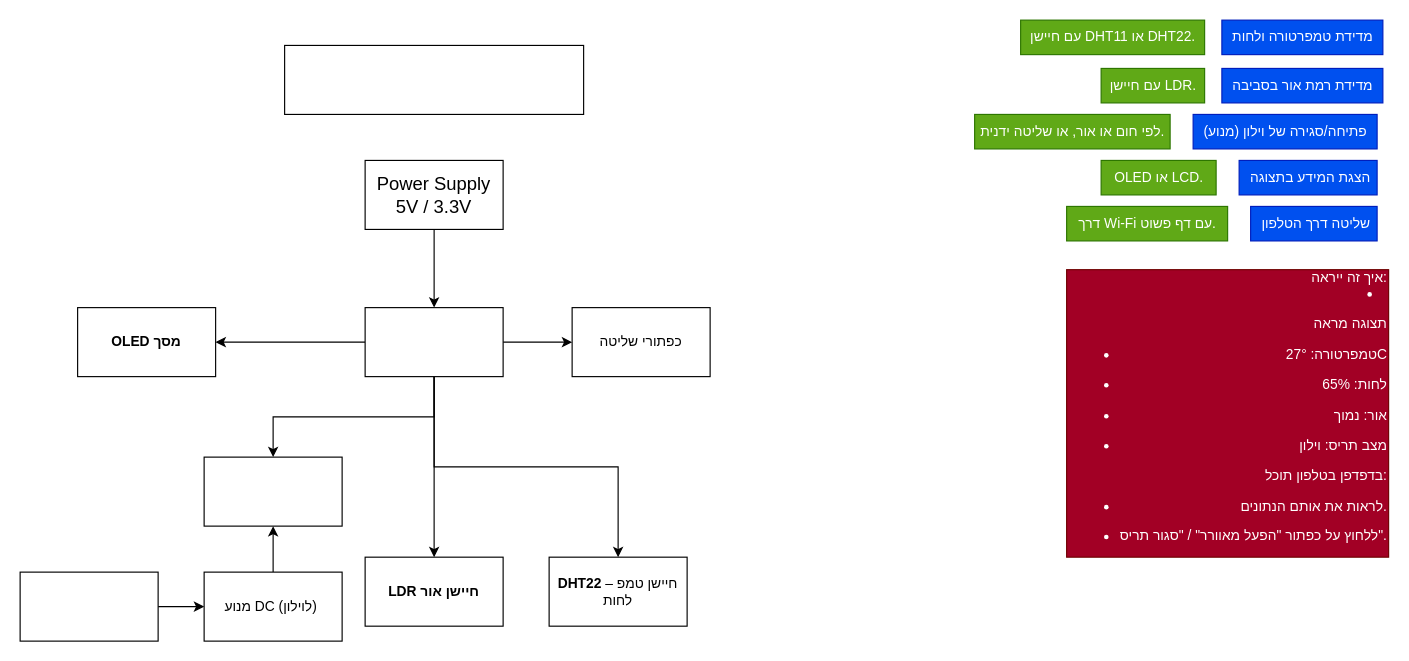
This 1409x661 diagram has some shape labels left out. The box of each missing label's shape, as (x1, y1, x2, y2) in pixels:
ESP32 (בקר ראשי): (364, 306, 503, 377)
דרייבר מנוע (L298N): (19, 571, 158, 641)
חיישני קצה (Limit): (203, 456, 342, 526)
תחנת בקרה חכמה לבית: (283, 44, 584, 114)
